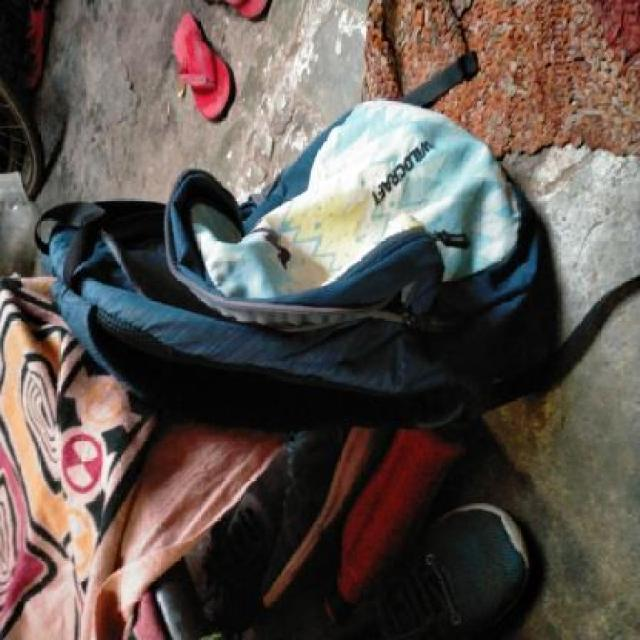backpack: (31, 92, 563, 437)
